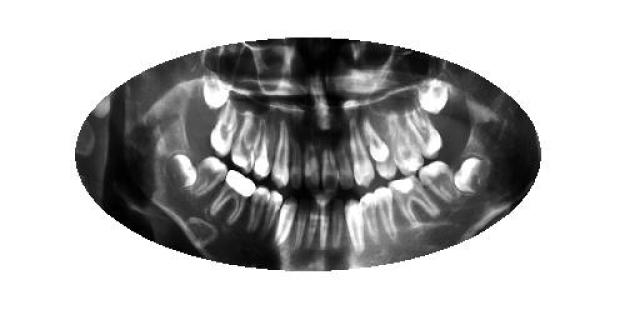Fillings: (386, 175, 442, 229), (210, 168, 256, 228)
Restorations: (450, 154, 490, 192), (164, 154, 198, 188)
